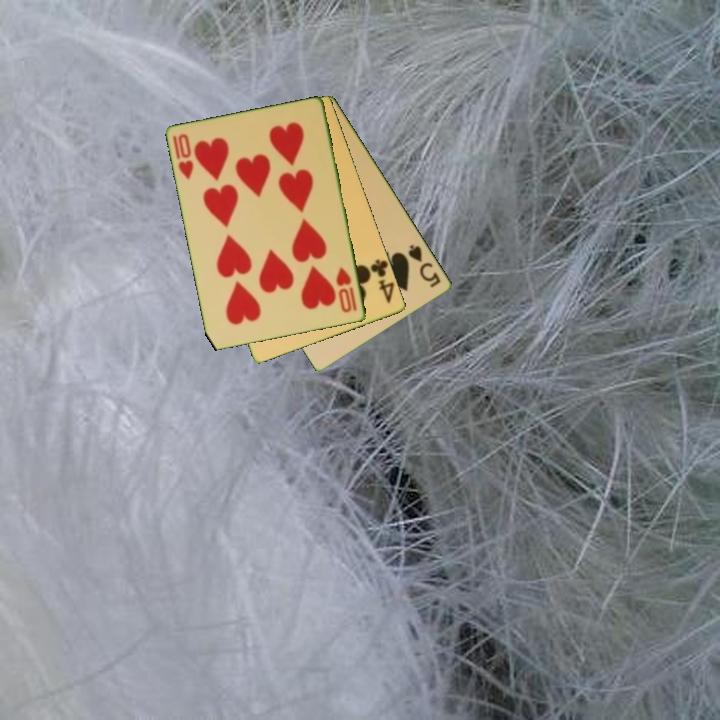10h: (169, 130, 197, 183), (333, 264, 360, 316)
4c: (367, 256, 397, 306)
5s: (405, 241, 444, 291)
